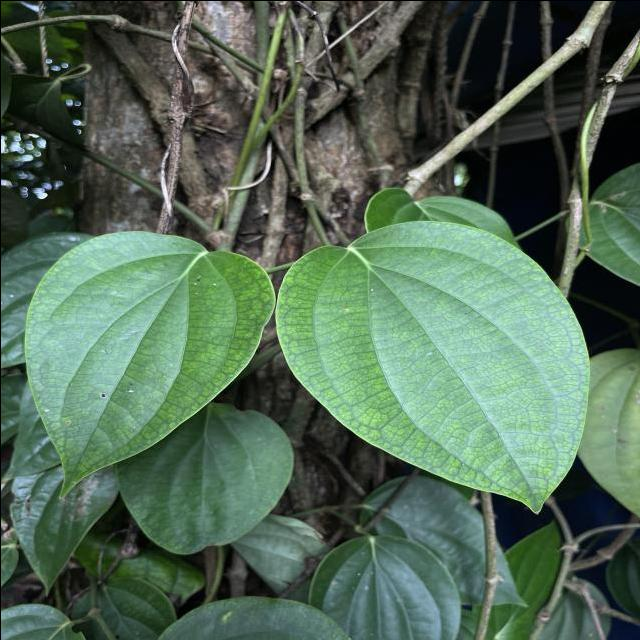Piper nigrum: (273, 217, 592, 515), (21, 228, 276, 500)
